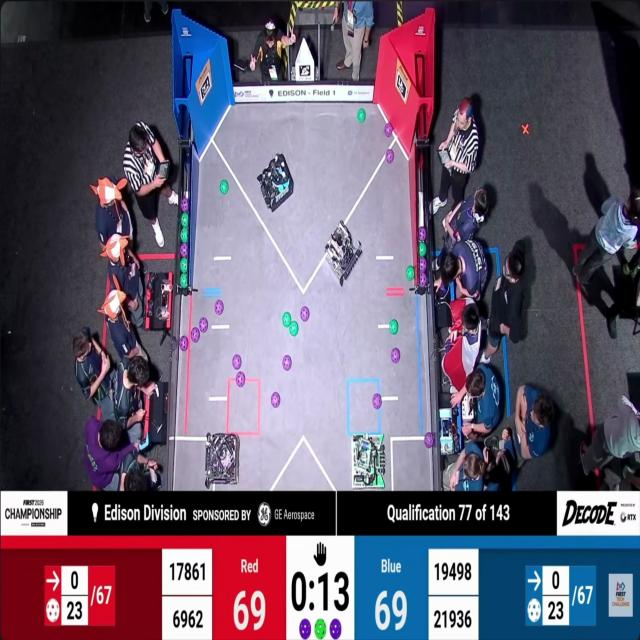artifact_green: (315, 619, 326, 639), (282, 311, 292, 328), (289, 321, 298, 336), (357, 108, 366, 123), (390, 319, 398, 335), (406, 266, 415, 280), (180, 228, 188, 243), (418, 242, 426, 257), (180, 258, 188, 273), (180, 274, 188, 288), (220, 180, 228, 194), (181, 213, 188, 227)
artifact_purple: (329, 619, 342, 640), (299, 619, 311, 639), (235, 371, 245, 388), (418, 257, 428, 273), (214, 300, 224, 316), (283, 355, 292, 371), (373, 394, 382, 410), (271, 392, 280, 408), (391, 348, 400, 363), (191, 327, 200, 342), (425, 433, 434, 448), (199, 317, 208, 332), (233, 354, 241, 370), (180, 336, 188, 351), (418, 227, 426, 242), (301, 307, 309, 322), (419, 272, 427, 287), (180, 243, 188, 257), (385, 123, 393, 137), (181, 197, 188, 212), (386, 150, 394, 163)
